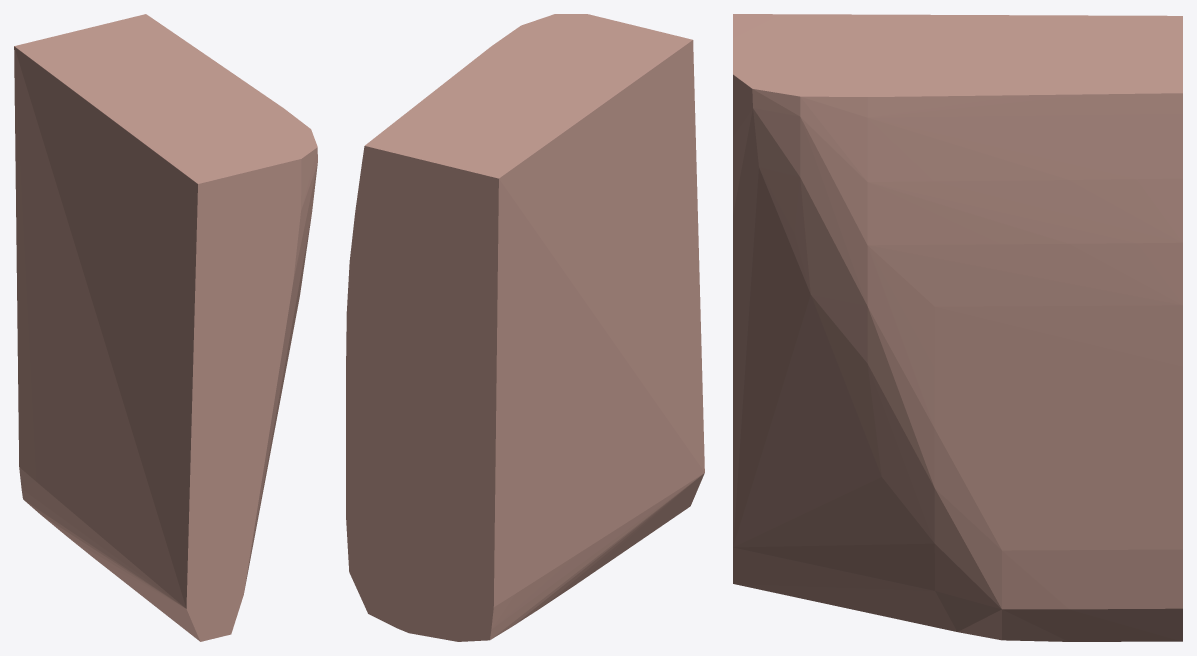
File: right-shoulder-pitch-0_part_158.obj
The picture shows the model from 3 angles, left to right: view 1: azimuth 30°, elevation 25°; view 2: azimuth 150°, elevation 25°; view 3: azimuth 270°, elevation 25°; orthographic projection. The views are drawn at different scales.
Size of the model in its own units: 0.00658 by 0.0176 by 0.0128.
